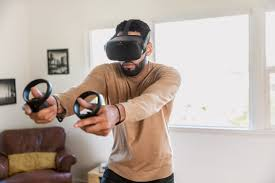oculus: (103, 30, 146, 63)
